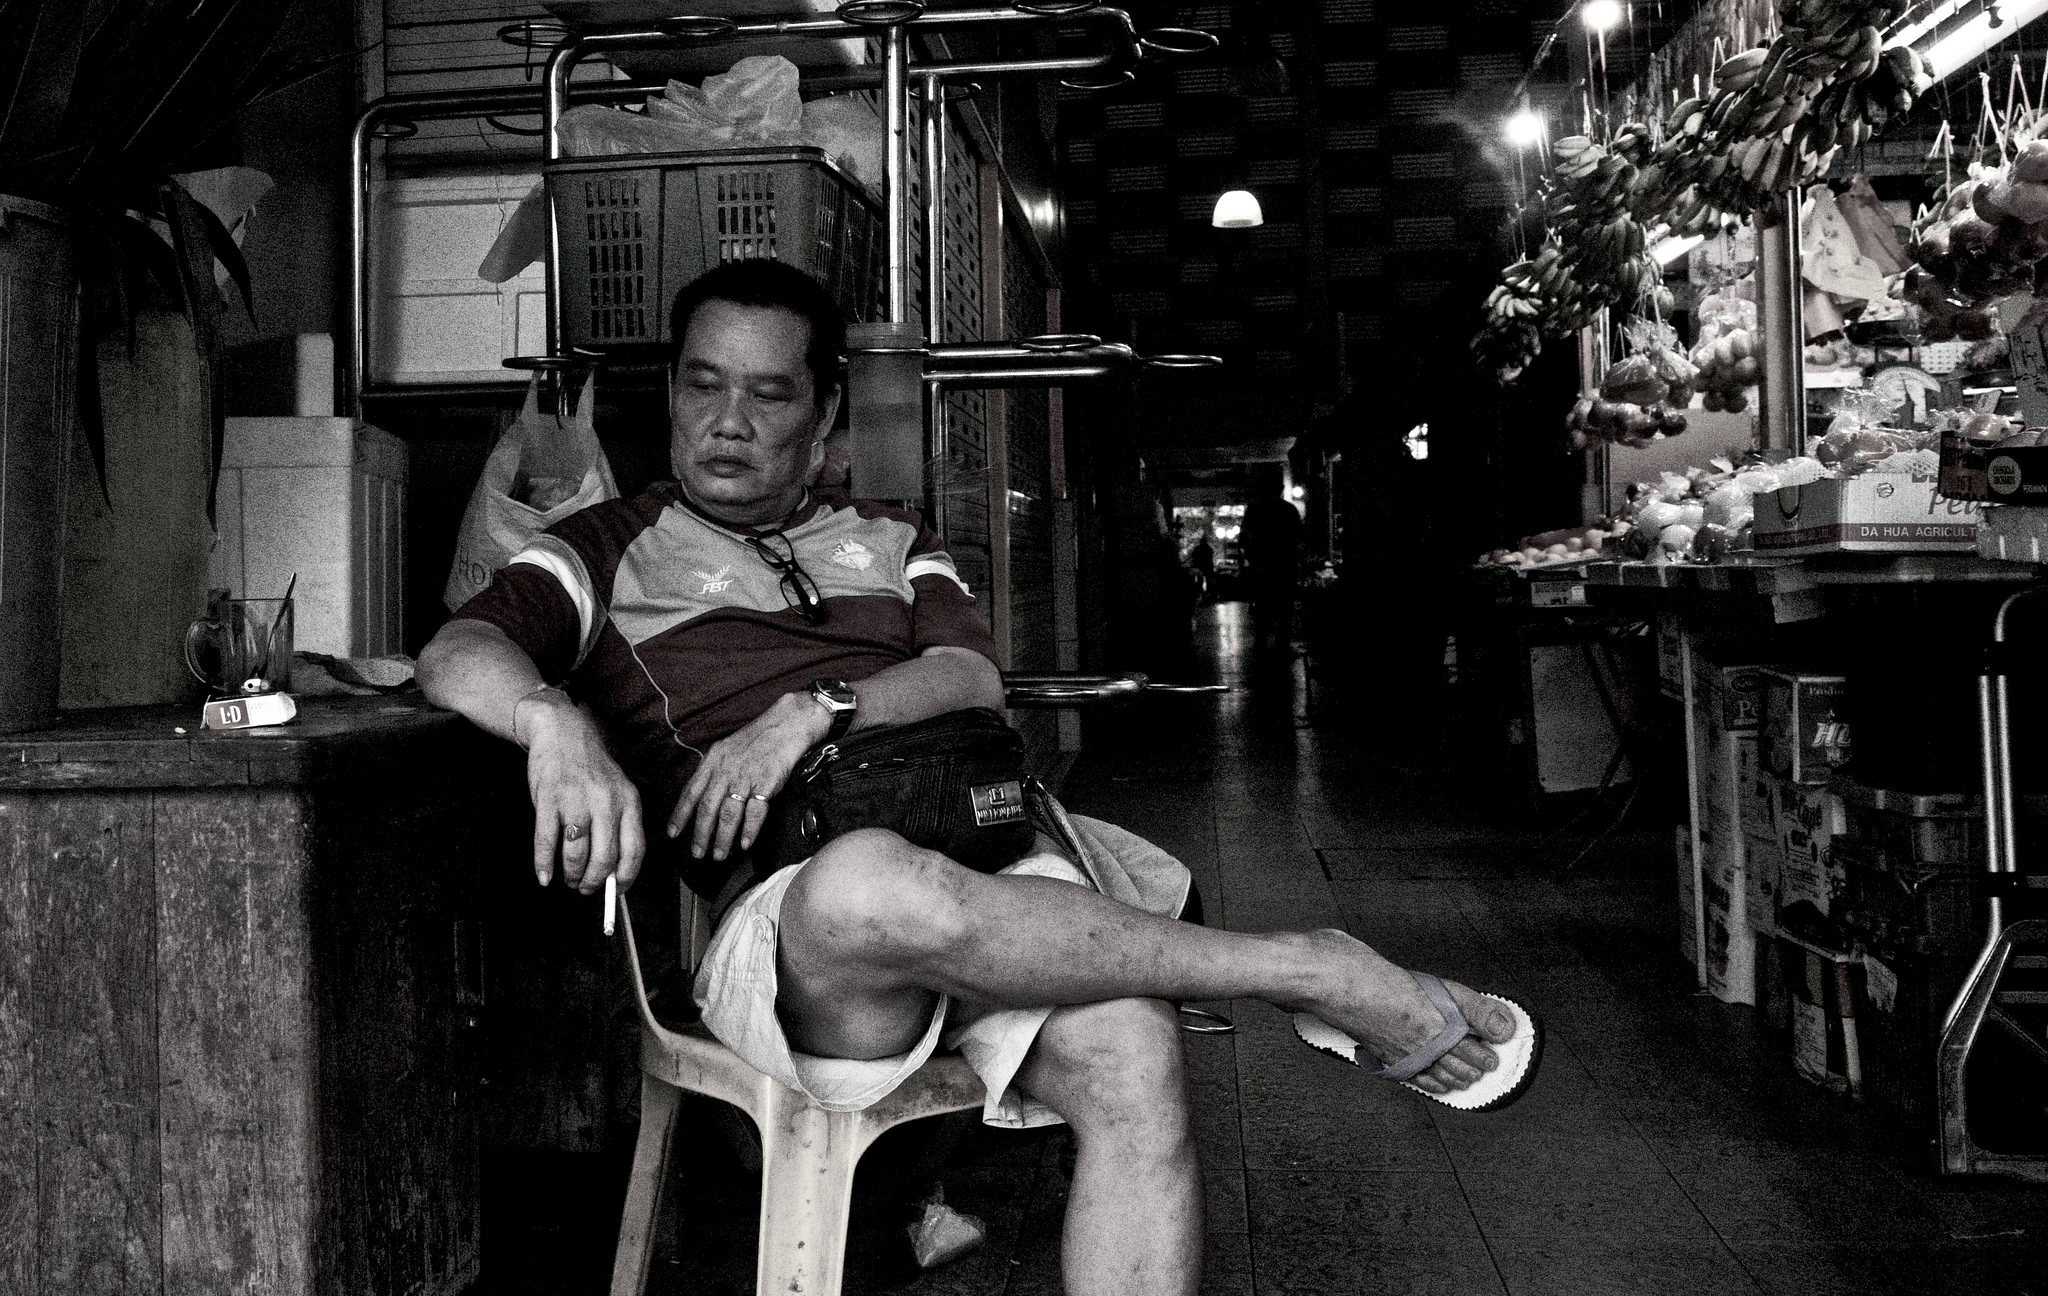cigarette: (587, 850, 627, 950)
not_cigarette: (1658, 638, 1793, 1024), (1742, 481, 2012, 561), (1517, 635, 1627, 803), (181, 690, 337, 738)
